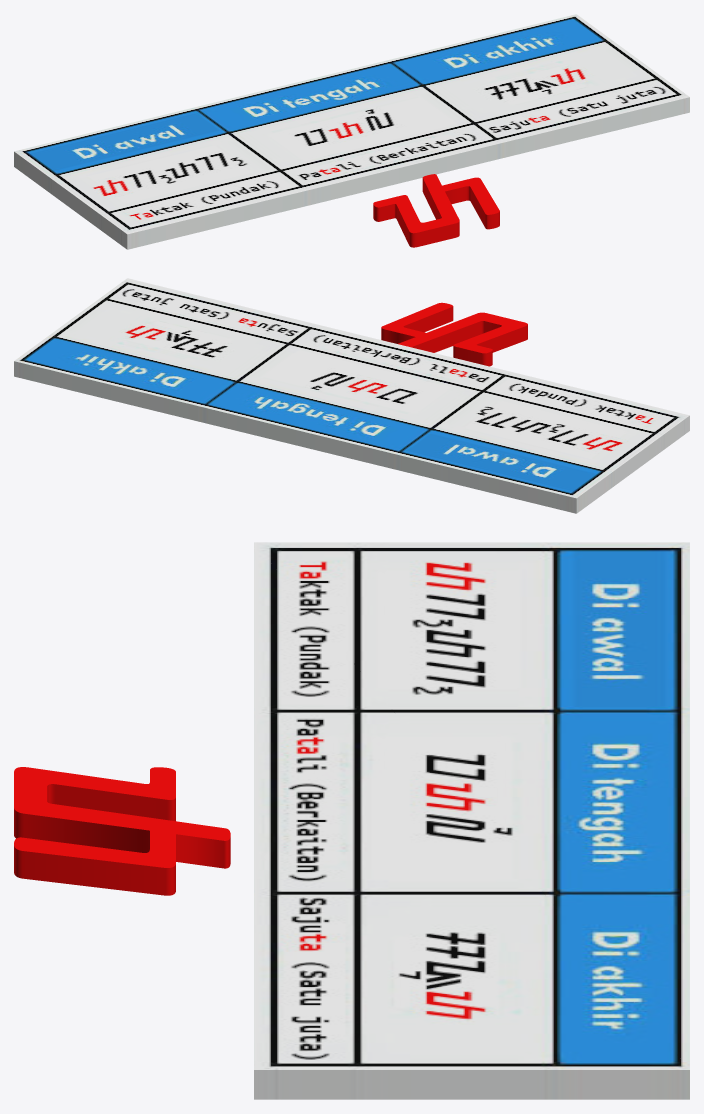
The picture shows the model from 3 angles, top to bottom: view 1: azimuth 30°, elevation 25°; view 2: azimuth 150°, elevation 25°; view 3: azimuth 270°, elevation 25°; orthographic projection. The views are drawn at different scales.
Parts seen in each view (by area): view 1: contoh-bunyi-huruf-ta-Ngalagena, Text; view 2: contoh-bunyi-huruf-ta-Ngalagena, Text; view 3: contoh-bunyi-huruf-ta-Ngalagena, Text.
Boxes of the visible parts, left/top/right/bottom form: contoh-bunyi-huruf-ta-Ngalagena: left=14, top=14, right=689, bottom=249; Text: left=373, top=174, right=499, bottom=247; contoh-bunyi-huruf-ta-Ngalagena: left=14, top=278, right=689, bottom=513; Text: left=381, top=302, right=527, bottom=366; contoh-bunyi-huruf-ta-Ngalagena: left=254, top=542, right=689, bottom=1099; Text: left=14, top=767, right=230, bottom=895.
Bounding box in the file's own units: 2.86 × 0.11 × 1.55.
2 materials, 1 textured.
